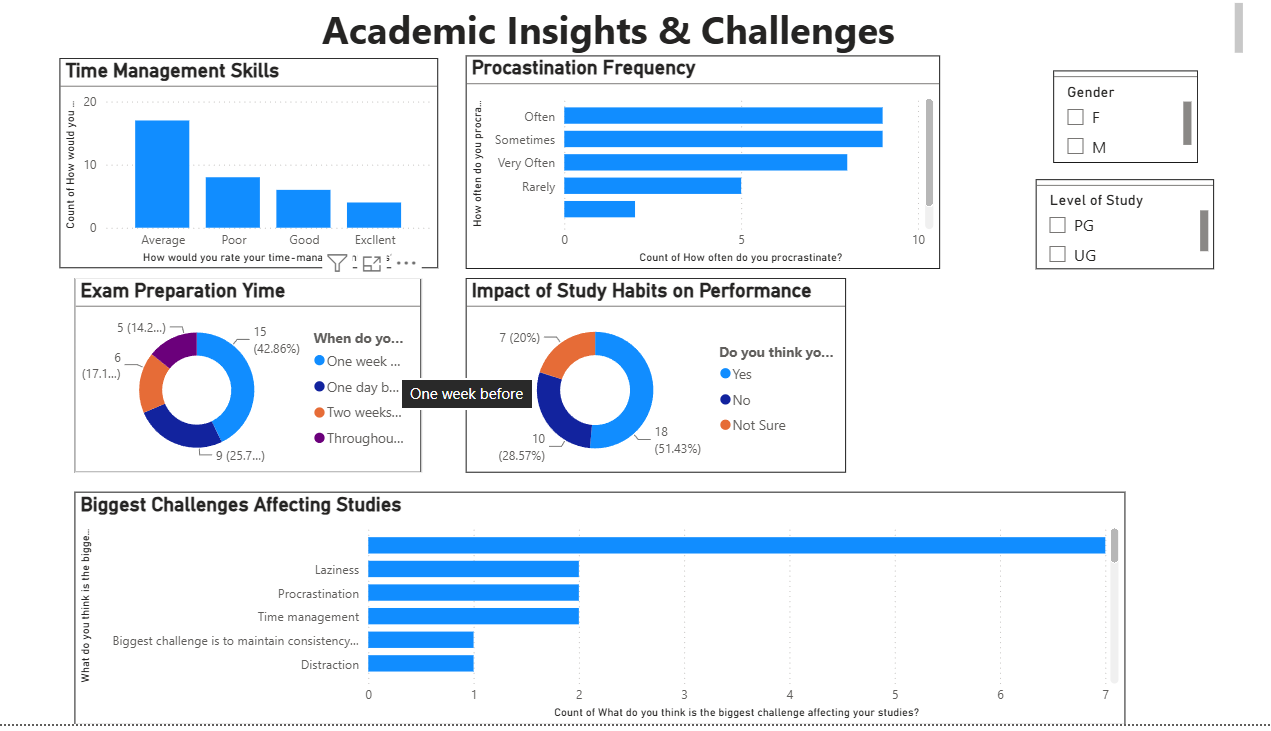

What the dashboard file says about the page in this screenshot:
{"tool":"powerbi","page":{"name":"Academic Insights and Challenges","canvas":[1280,720],"ordinal":2},"visuals":[{"type":"textbox","box":[9.6,9.6,1243.2,59],"z":0},{"type":"clusteredColumnChart","title":"Time Management Skills","fields":{"Category":["Study Habits Analysis (2).How would you rate your time-management skills?  "],"Y":["CountNonNull(Study Habits Analysis (2).How would you rate your time-management skills?  )"]},"box":[90.6,68.6,370.5,205.8],"z":1000},{"type":"clusteredBarChart","title":"Procastination Frequency","fields":{"Category":["Study Habits Analysis (2).How often do you procrastinate?  "],"Y":["CountNonNull(Study Habits Analysis (2).How often do you procrastinate?  )"]},"box":[488.5,65.9,463.8,208.6],"z":2000},{"type":"donutChart","title":"Exam Preparation Yime","fields":{"Category":["Study Habits Analysis (2).When do you usually start preparing for exams?  "],"Y":["CountNonNull(Study Habits Analysis (2).When do you usually start preparing for exams?  )"]},"box":[105.7,284,338.9,190.7],"z":3000},{"type":"donutChart","title":"Impact of Study Habits on Performance","fields":{"Category":["Study Habits Analysis (2).Do you think your study habits affect your academic performance?  "],"Y":["CountNonNull(Study Habits Analysis (2).Do you think your study habits affect your academic performance?  )"]},"box":[488.5,284,371.9,190.7],"z":4000},{"type":"clusteredBarChart","title":"Biggest Challenges Affecting Studies","fields":{"Category":["Study Habits Analysis (2).What do you think is the biggest challenge affecting your studies?  "],"Y":["CountNonNull(Study Habits Analysis (2).What do you think is the biggest challenge affecting your studies?  )"]},"box":[105.7,492.6,1027.8,227.8],"z":5000},{"type":"slicer","fields":{"Values":["Study Habits Analysis (2).Gender"]},"box":[1062.1,81,141.3,90.6],"z":6000},{"type":"slicer","fields":{"Values":["Study Habits Analysis (2).Level of Study  "]},"box":[1045.6,186.6,174.3,87.8],"z":7000}]}

Visuals, with their boxes in screenshot pixels (x1, y1, x2, y2), scaled from the page's 1280x720 canvas onto the 1271x731 screenshot:
textbox: (x1=10, y1=10, x2=1244, y2=70)
"Time Management Skills" clusteredColumnChart: (x1=90, y1=70, x2=458, y2=279)
"Procastination Frequency" clusteredBarChart: (x1=485, y1=67, x2=946, y2=279)
"Exam Preparation Yime" donutChart: (x1=105, y1=288, x2=441, y2=482)
"Impact of Study Habits on Performance" donutChart: (x1=485, y1=288, x2=854, y2=482)
"Biggest Challenges Affecting Studies" clusteredBarChart: (x1=105, y1=500, x2=1126, y2=730)
slicer - Study Habits Analysis (2).Gender: (x1=1055, y1=82, x2=1195, y2=174)
slicer - Study Habits Analysis (2).Level of Study  : (x1=1038, y1=189, x2=1211, y2=279)
